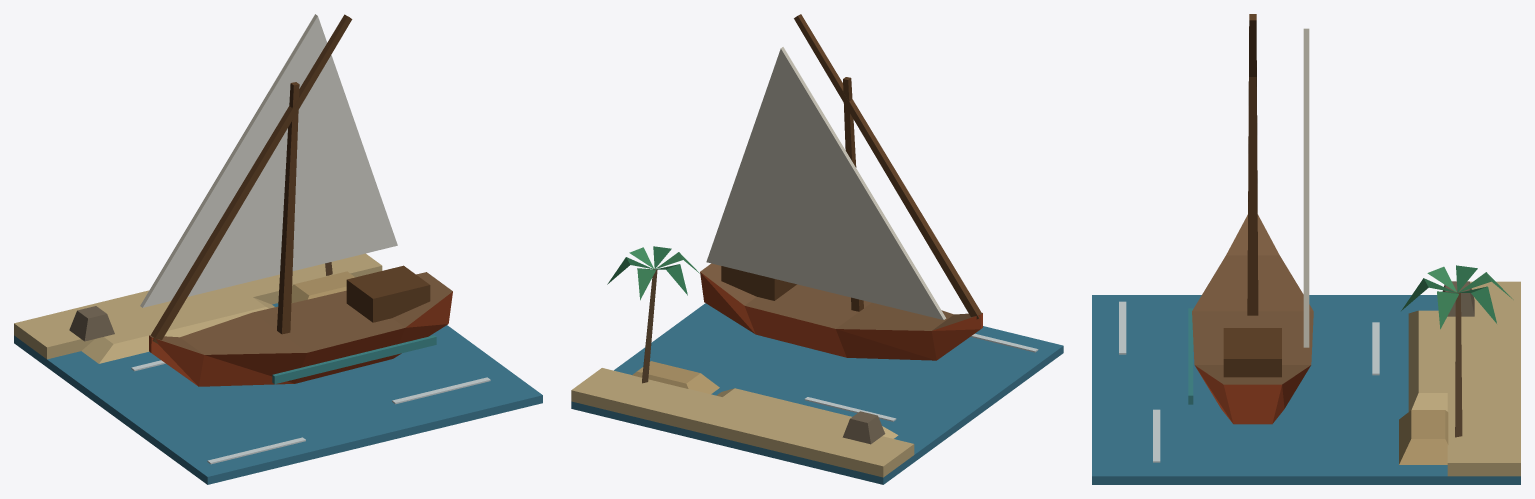
Rendered from felouque.glb.
3 renders of one model, left to right at view 1: azimuth 30°, elevation 25°; view 2: azimuth 150°, elevation 25°; view 3: azimuth 270°, elevation 25°, orthographic. The views are drawn at different scales.
Parts seen in each view (by area): view 1: felouque; view 2: felouque; view 3: felouque.
Part boxes in pixels (x1,y1,x2,y2): felouque: [14, 14, 542, 484]; felouque: [571, 14, 1063, 484]; felouque: [1092, 14, 1520, 484].
Size of the model in its own units: 1.76 by 1.83 by 1.76.
